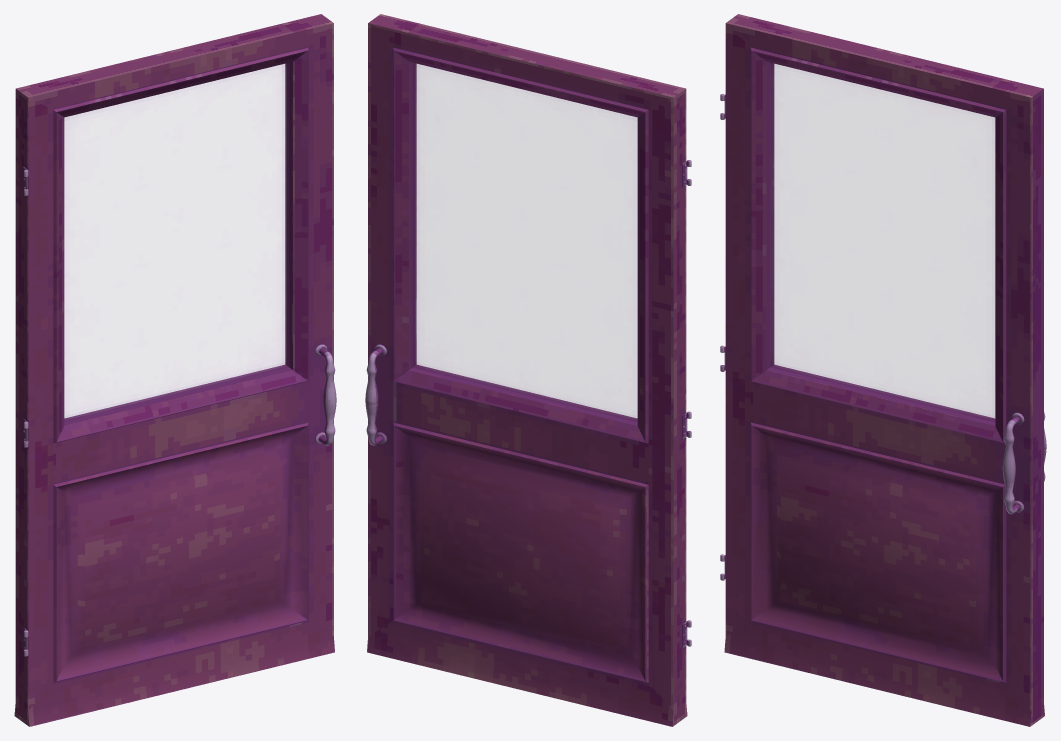
File: door_single.glb
3 views of the same model, side by side, from view 1: azimuth 30°, elevation 25°; view 2: azimuth 150°, elevation 25°; view 3: azimuth 330°, elevation 25° (orthographic).
Parts seen in each view (by area): view 1: Door_door_0.002; view 2: Door_door_0.002; view 3: Door_door_0.002.
Part boxes in pixels (<box>): Door_door_0.002: <box>14,14,336,726</box>; Door_door_0.002: <box>365,14,691,726</box>; Door_door_0.002: <box>720,14,1046,726</box>.
Bounding box in the file's own units: 6.31 × 12.22 × 1.27.
Materials: 2 (2 with a texture image).
